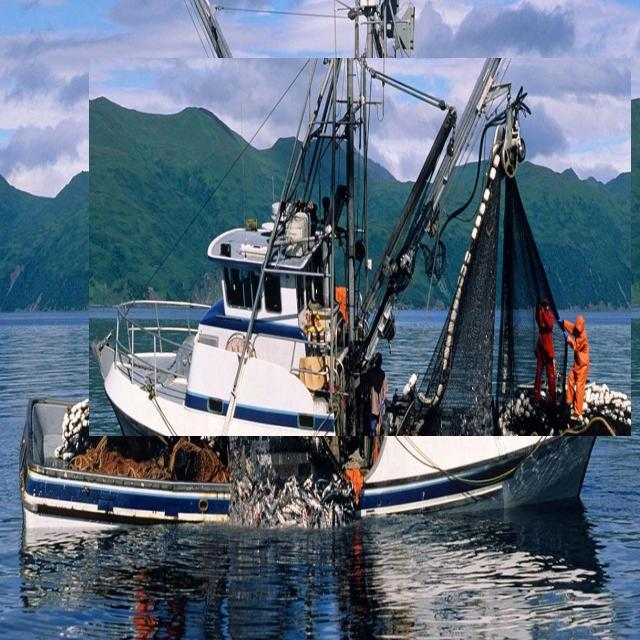Fishing Boat: (89, 59, 631, 436)
